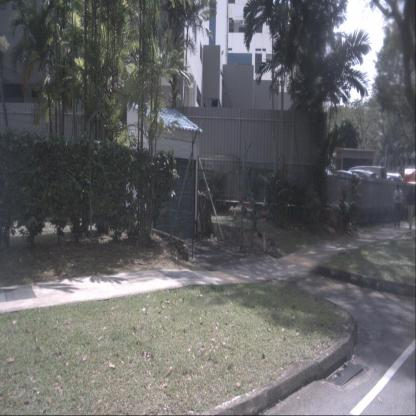human-pedestrian-adult: (393, 184, 404, 228), (406, 185, 415, 231)
